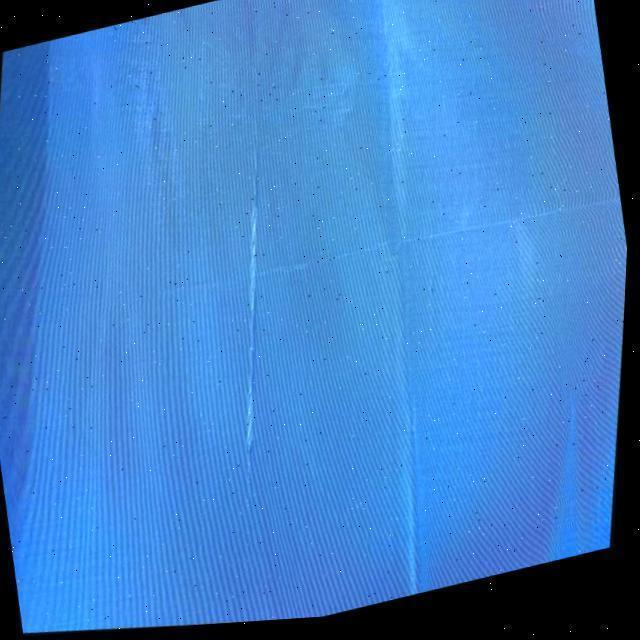pulled_or_thick_thread: (250, 130, 259, 496)
